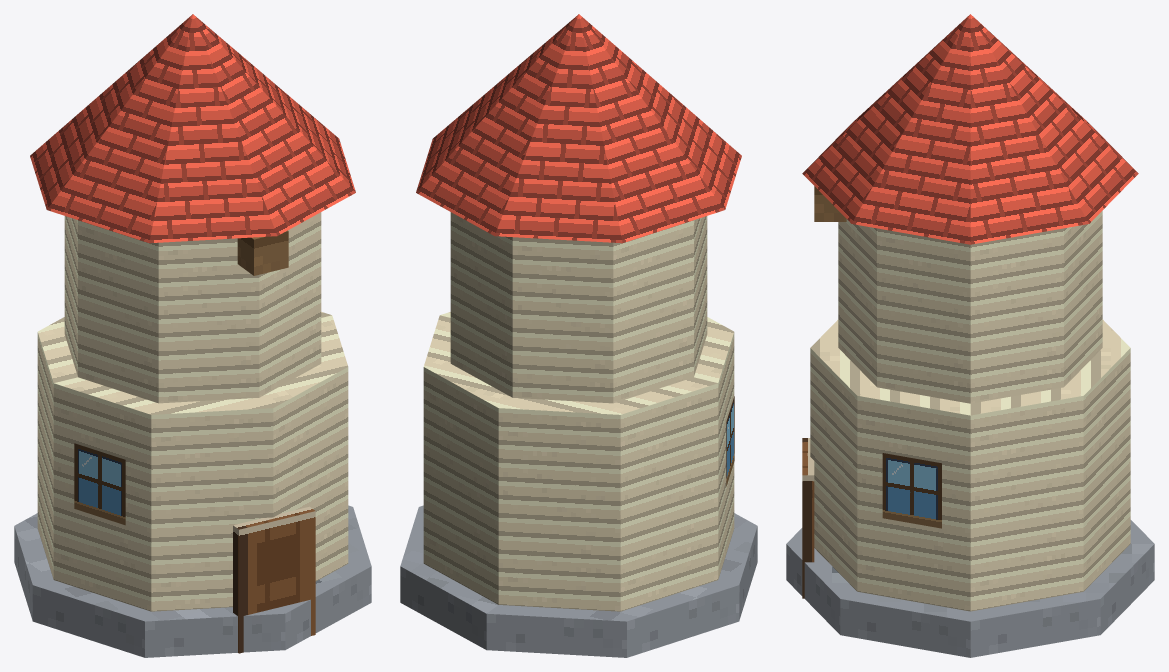
File: windmill.glb
3 views of the same model, side by side, from view 1: azimuth 30°, elevation 25°; view 2: azimuth 150°, elevation 25°; view 3: azimuth 270°, elevation 25° (orthographic).
Parts seen in each view (by area): view 1: windmill; view 2: windmill; view 3: windmill.
Boxes of the visible parts, x1=… form: windmill: x1=14, y1=14, x2=371, y2=657; windmill: x1=400, y1=14, x2=757, y2=657; windmill: x1=786, y1=14, x2=1154, y2=657.
Size of the model in its own units: 4.6 by 7.8 by 4.6.
Materials: 6 (6 with a texture image).
